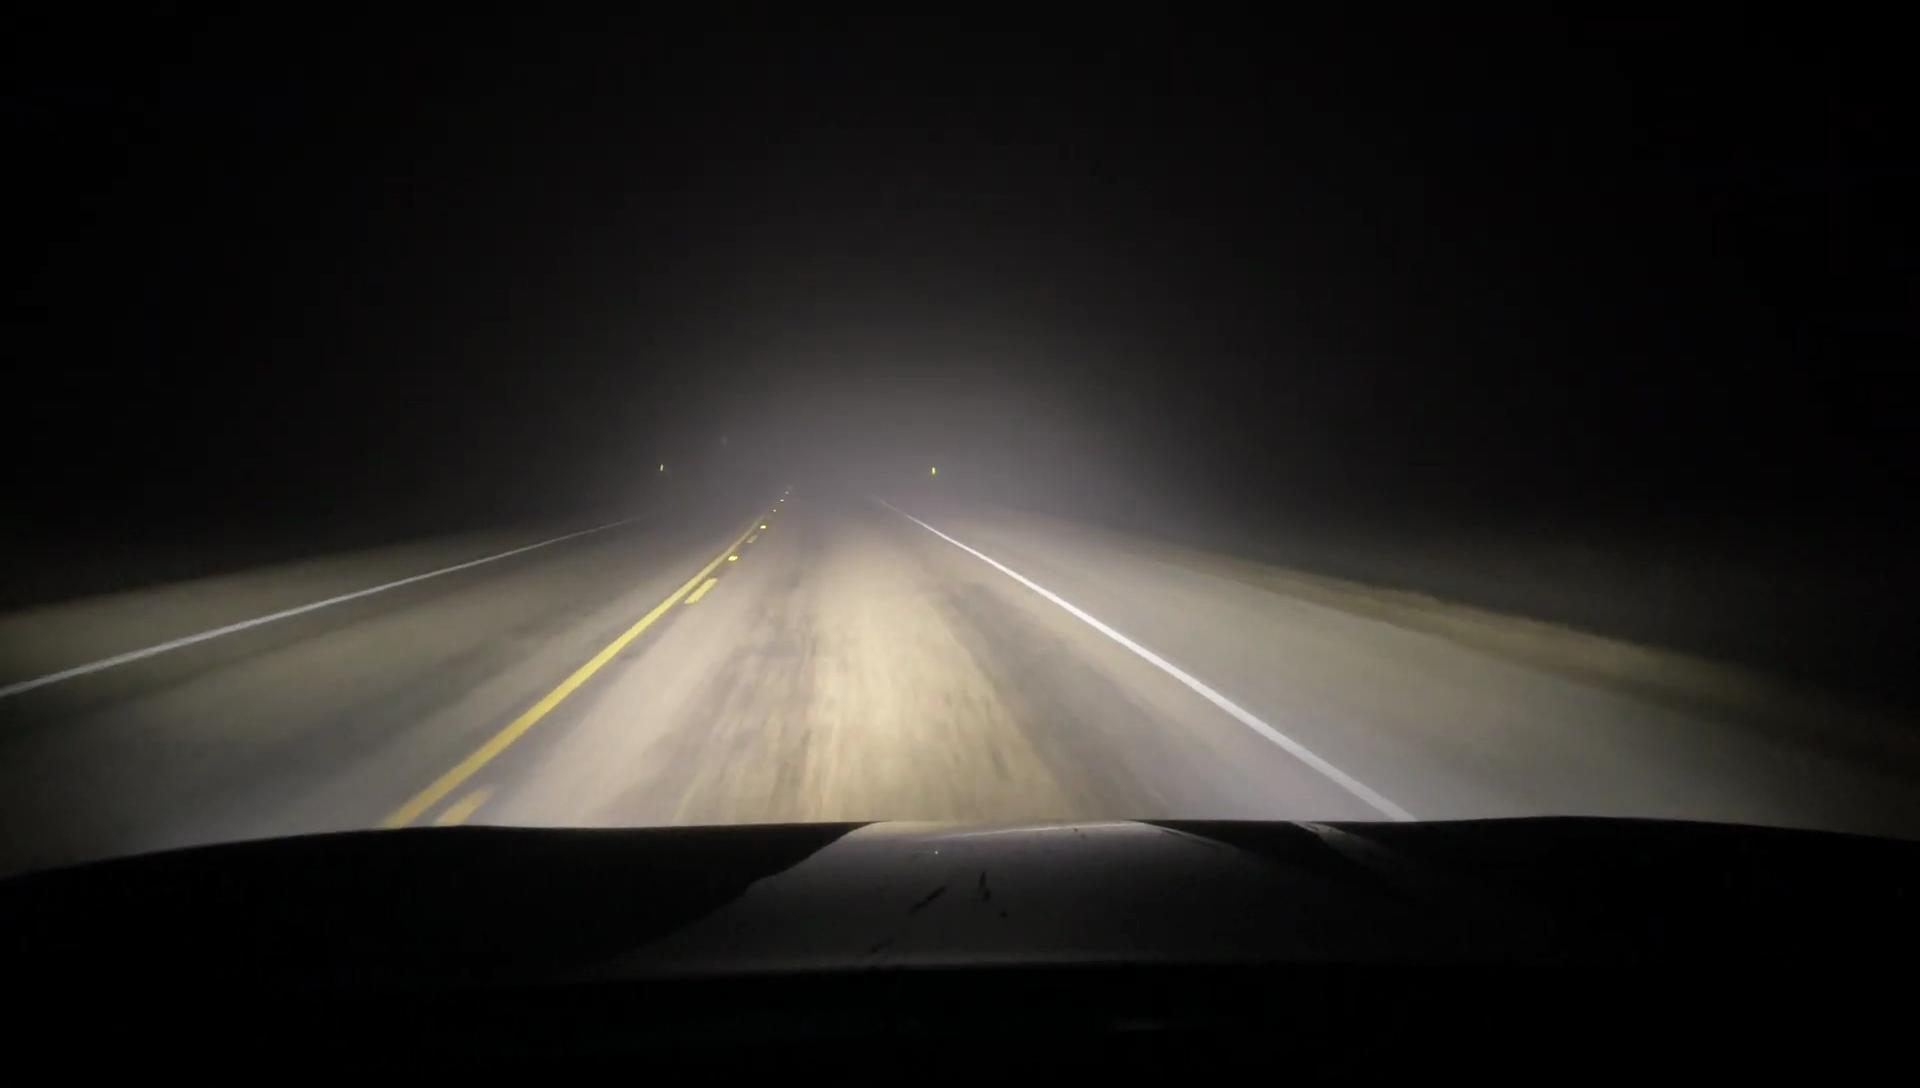road-lanes: (463, 495, 1381, 824)
